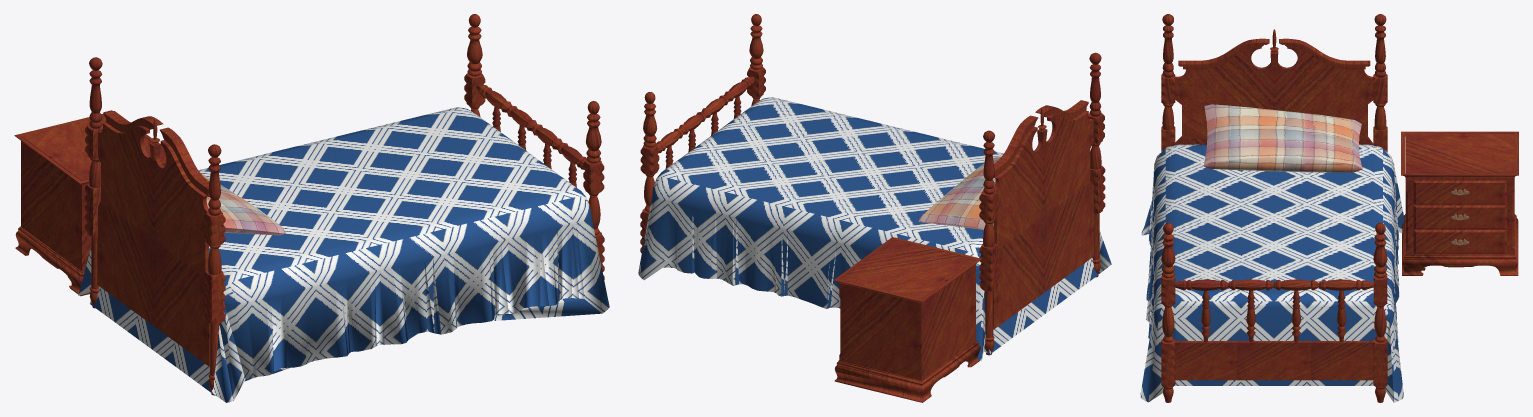
3 renders of one model, left to right at view 1: azimuth 30°, elevation 25°; view 2: azimuth 150°, elevation 25°; view 3: azimuth 270°, elevation 25°, orthographic. The views are drawn at different scales.
Parts seen in each view (by area): view 1: Loft02, Circle01, Box15, Rectangle68, Box04; view 2: Loft02, Rectangle68, Circle01, Box15, Box04; view 3: Loft02, Box15, Rectangle68, Circle01, Box04.
Part boxes in pixels (x1,y1,x2,y2): Loft02: [78, 107, 609, 402]; Circle01: [97, 122, 210, 366]; Box15: [85, 14, 604, 395]; Rectangle68: [14, 111, 166, 296]; Box04: [201, 174, 286, 235]; Loft02: [638, 97, 1111, 360]; Rectangle68: [833, 237, 981, 402]; Circle01: [993, 110, 1093, 329]; Box15: [640, 14, 1105, 355]; Box04: [918, 157, 1000, 229]; Loft02: [1140, 144, 1404, 402]; Box15: [1161, 14, 1387, 402]; Rectangle68: [1401, 131, 1518, 275]; Circle01: [1175, 47, 1373, 144]; Box04: [1203, 104, 1362, 172].
Bounding box in the file's own units: 1920 × 1164 × 1799.
Materials: 5 (4 with a texture image).
